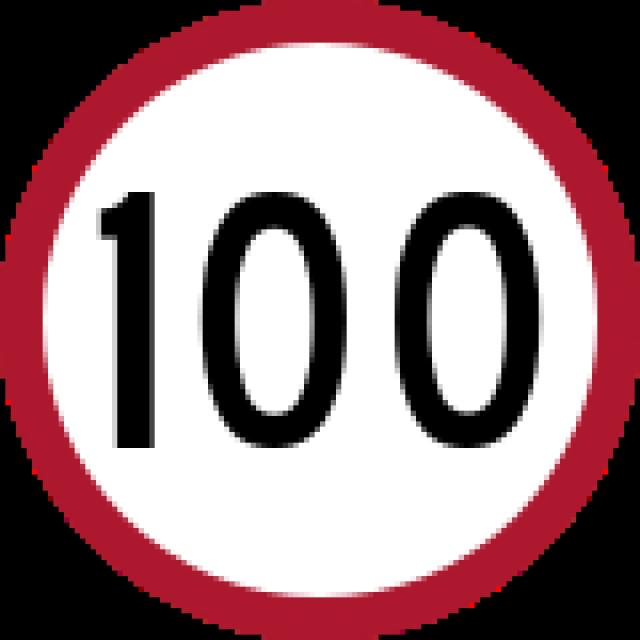Speed Limit -100-: (70, 173, 562, 469)
